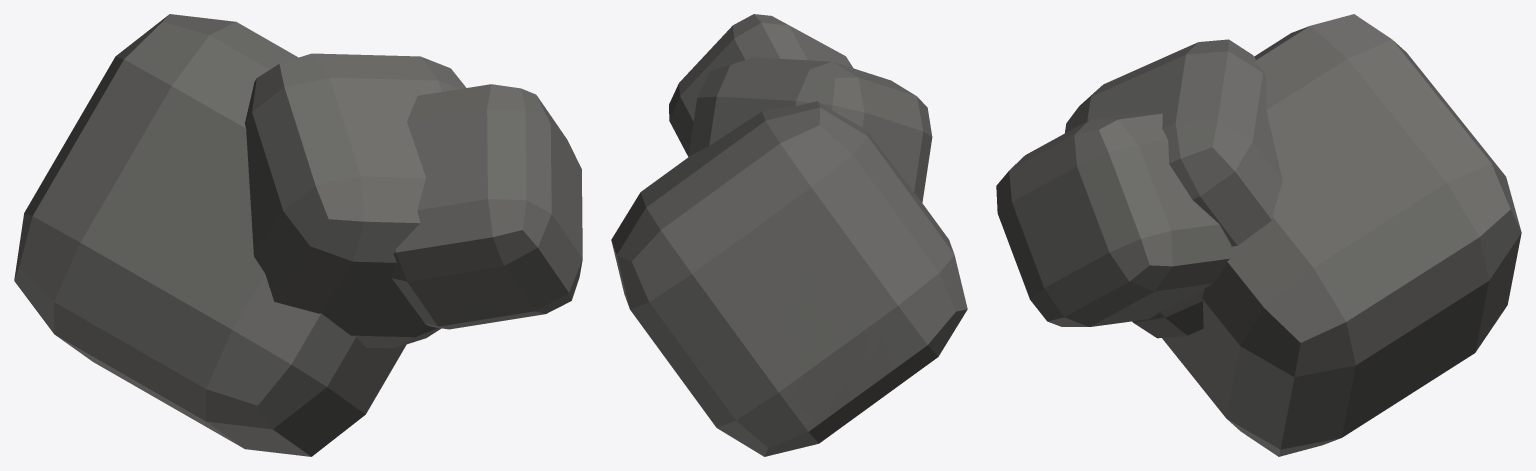
The model's file is Terrain Models_Rock2.fbx.
3 renders of one model, left to right at view 1: azimuth 30°, elevation 25°; view 2: azimuth 150°, elevation 25°; view 3: azimuth 270°, elevation 25°, orthographic. The views are drawn at different scales.
Parts seen in each view (by area): view 1: Cube.009; view 2: Cube.009; view 3: Cube.009.
Boxes of the visible parts, bbox=[...] form: Cube.009: bbox=[14, 14, 582, 456]; Cube.009: bbox=[611, 14, 967, 456]; Cube.009: bbox=[996, 14, 1521, 456].
Bounding box in the file's own units: 1059 × 952 × 1158.
1 material, 1 textured.
